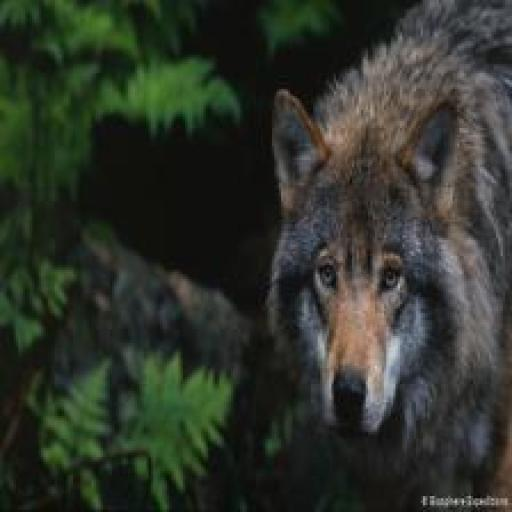wolf: (267, 0, 512, 505)
